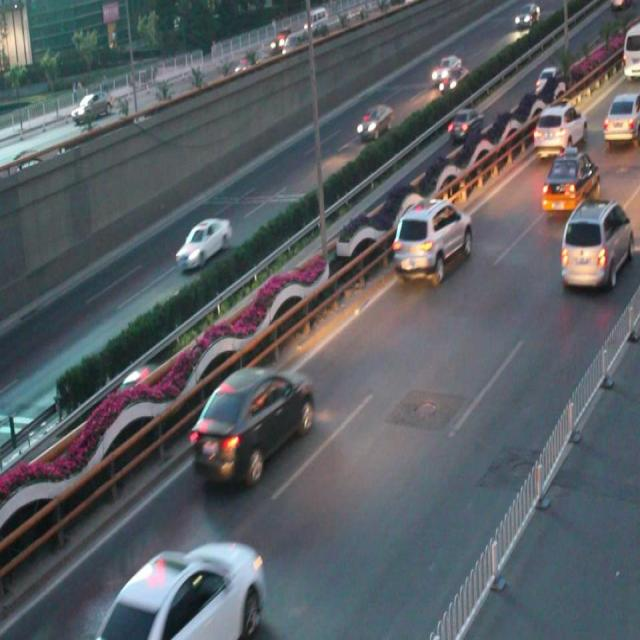car: (95, 545, 264, 640), (194, 365, 313, 484), (394, 194, 472, 282), (559, 200, 632, 287), (540, 152, 602, 214), (175, 216, 232, 271), (532, 101, 581, 153), (446, 106, 484, 142), (354, 103, 392, 139)
